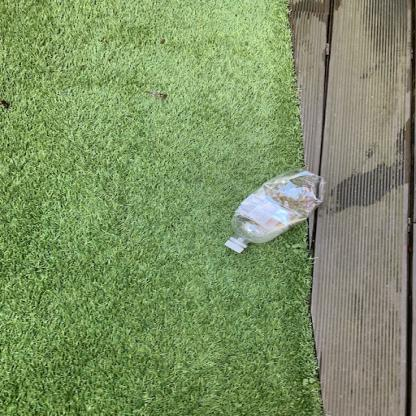trash: (223, 169, 325, 258)
